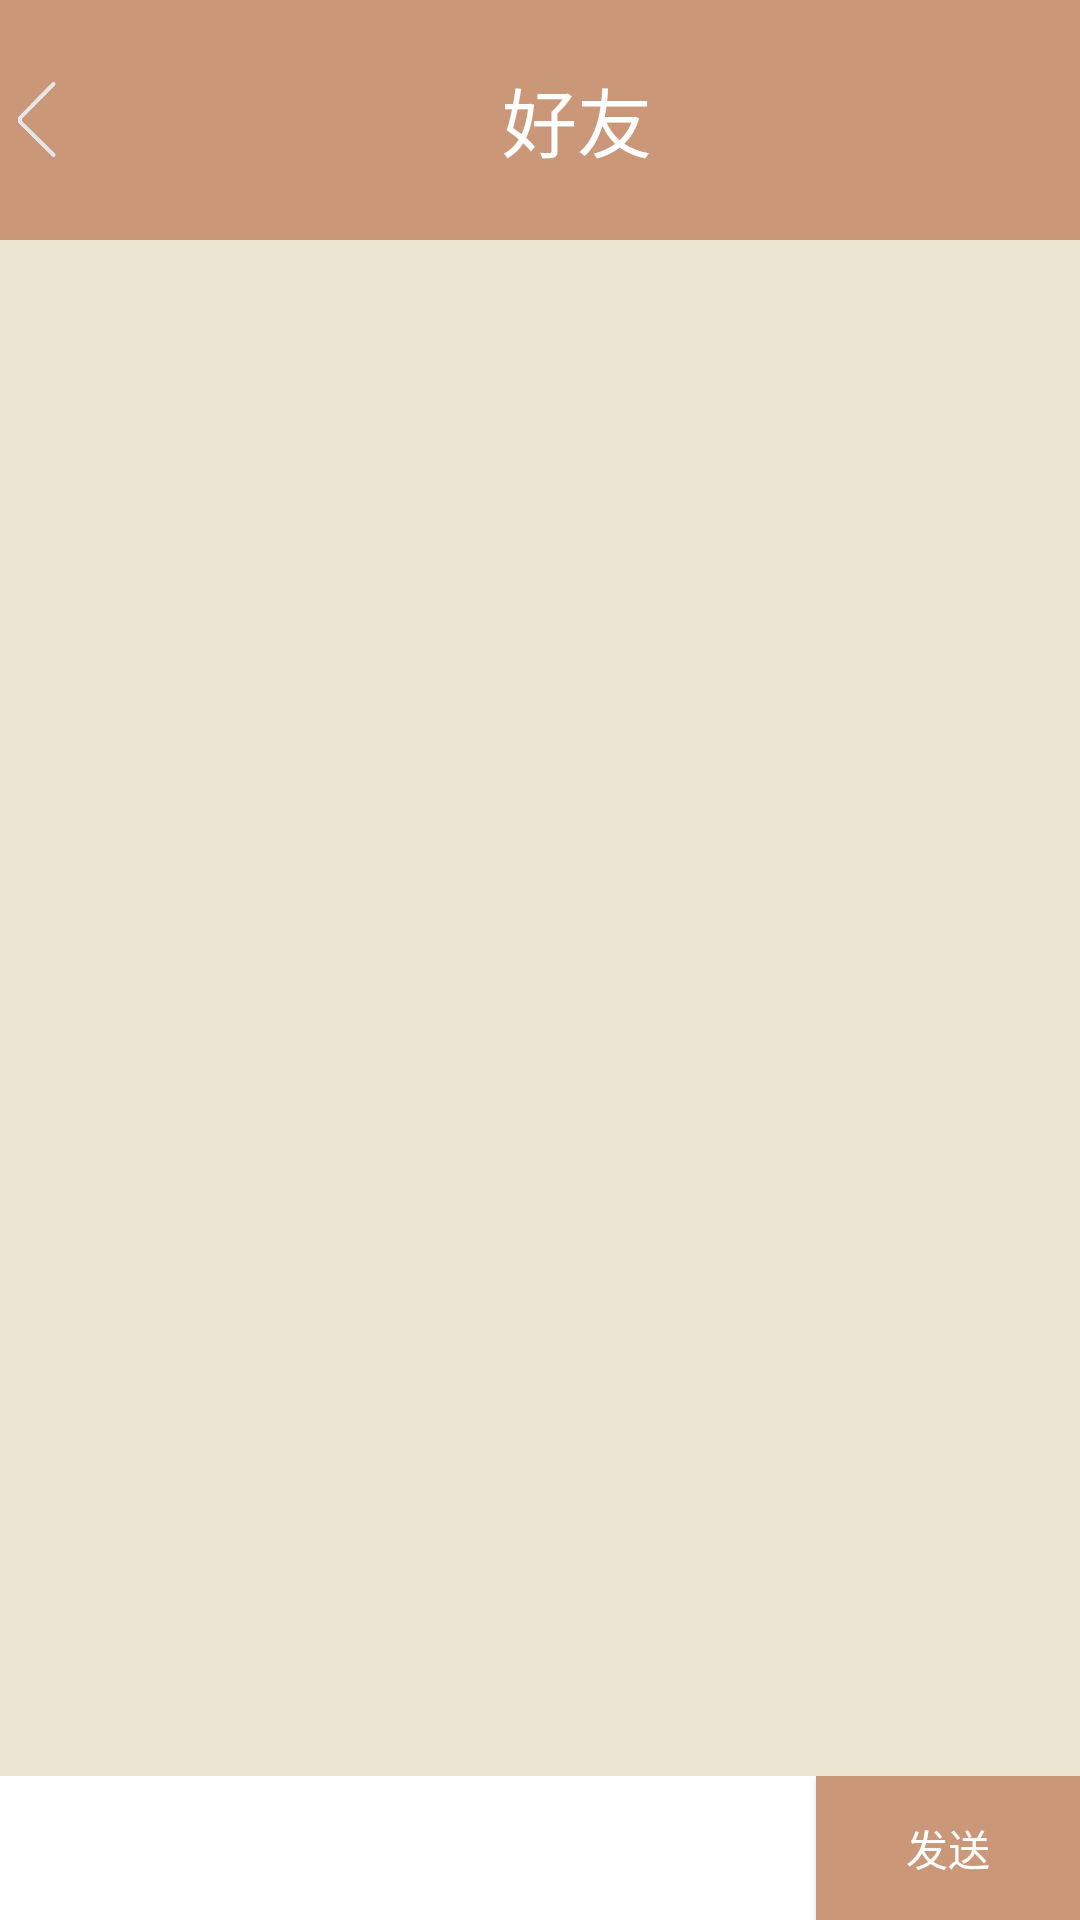

Locate icon controls on the screen. Image size 1080 × 1920, boxes as (x1, y1, x2, y2).
back: (18, 82, 56, 157)
